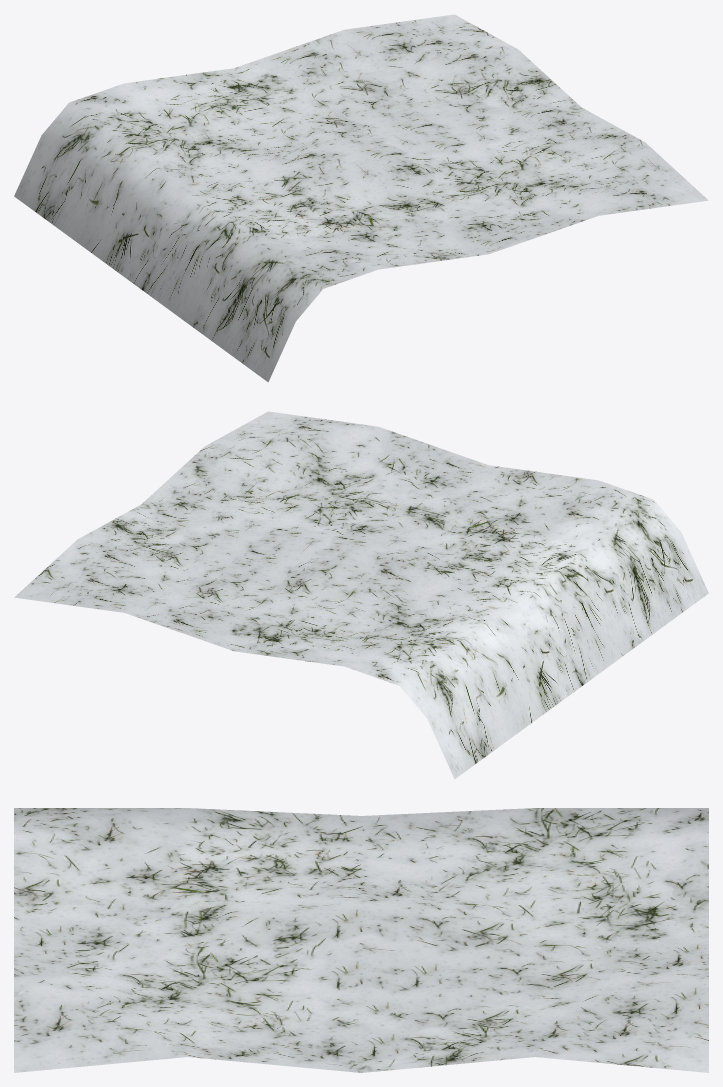
File: SnowEdge.fbx
The picture shows the model from 3 angles, top to bottom: view 1: azimuth 30°, elevation 25°; view 2: azimuth 150°, elevation 25°; view 3: azimuth 270°, elevation 25°; orthographic projection. The views are drawn at different scales.
Visible parts, largest first — view 1: Plane.007; view 2: Plane.007; view 3: Plane.007.
Part boxes in pixels (bbox=[...]): Plane.007: bbox=[14, 14, 708, 382]; Plane.007: bbox=[14, 411, 708, 779]; Plane.007: bbox=[14, 808, 708, 1072].
Size of the model in its own units: 200 by 37.34 by 200.
